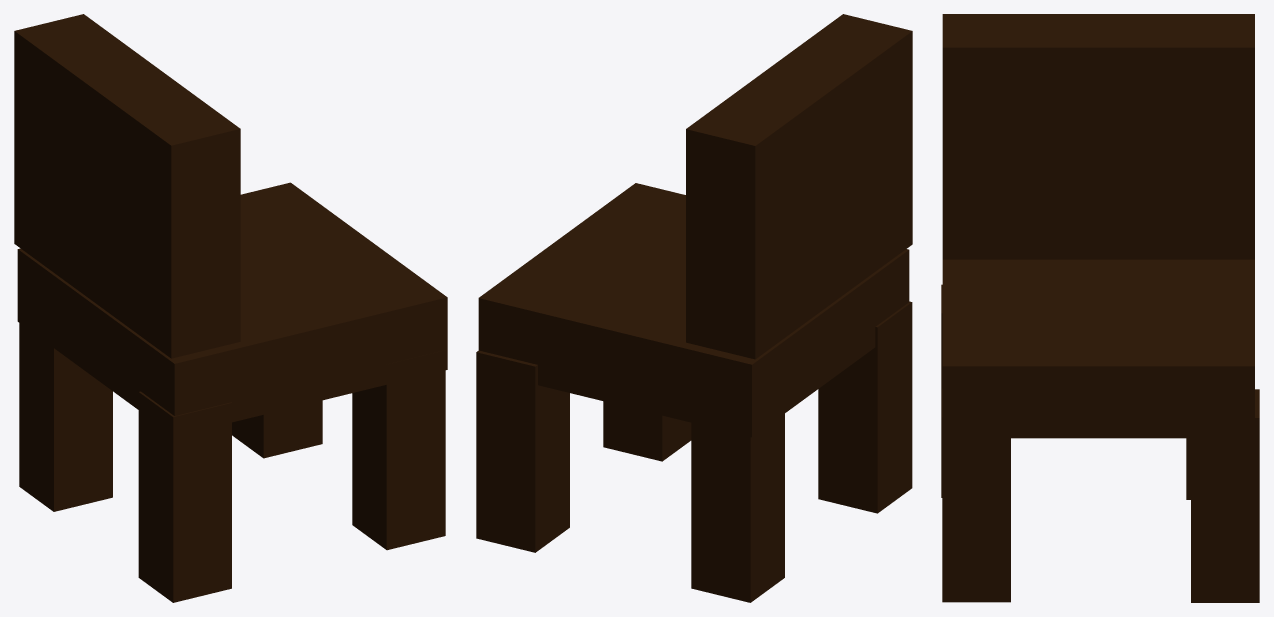
File: szek.FBX
3 renders of one model, left to right at view 1: azimuth 30°, elevation 25°; view 2: azimuth 150°, elevation 25°; view 3: azimuth 270°, elevation 25°, orthographic.
Visible parts, largest first — view 1: szek; view 2: szek; view 3: szek.
Part boxes in pixels (<box>): szek: <box>14,14,447,602</box>; szek: <box>476,14,912,602</box>; szek: <box>941,14,1259,602</box>.
Size of the model in its own units: 93.67 by 148 by 93.95.
